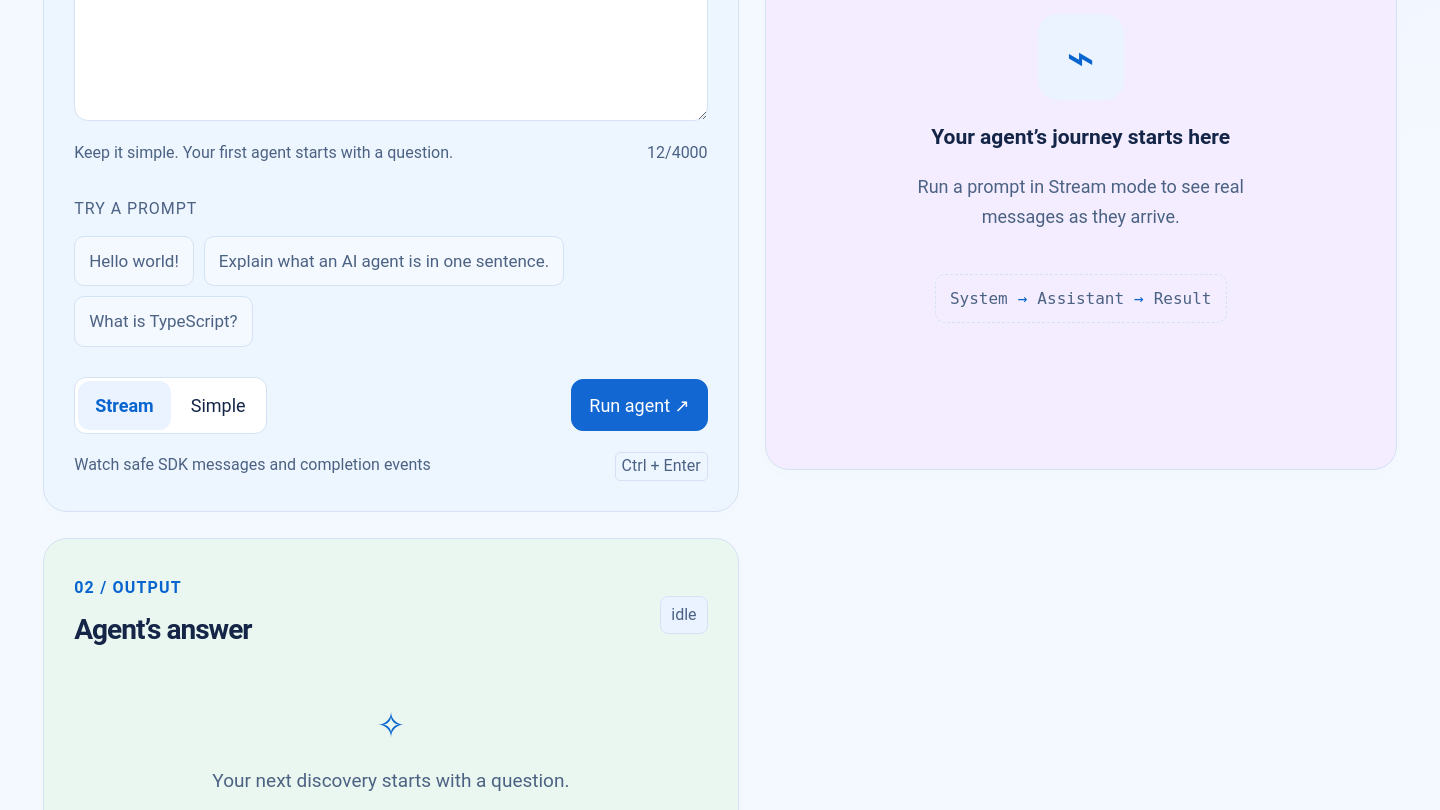
Test: React agent playground › shows streamed text before completion and keeps final usage
This screenshot has width=1440, height=810.
Later steps or results of the test are not shown.
(page scrolled)
Click the button "Run agent ↗" at (640, 405), box [571,379,708,431]
(page scrolled)
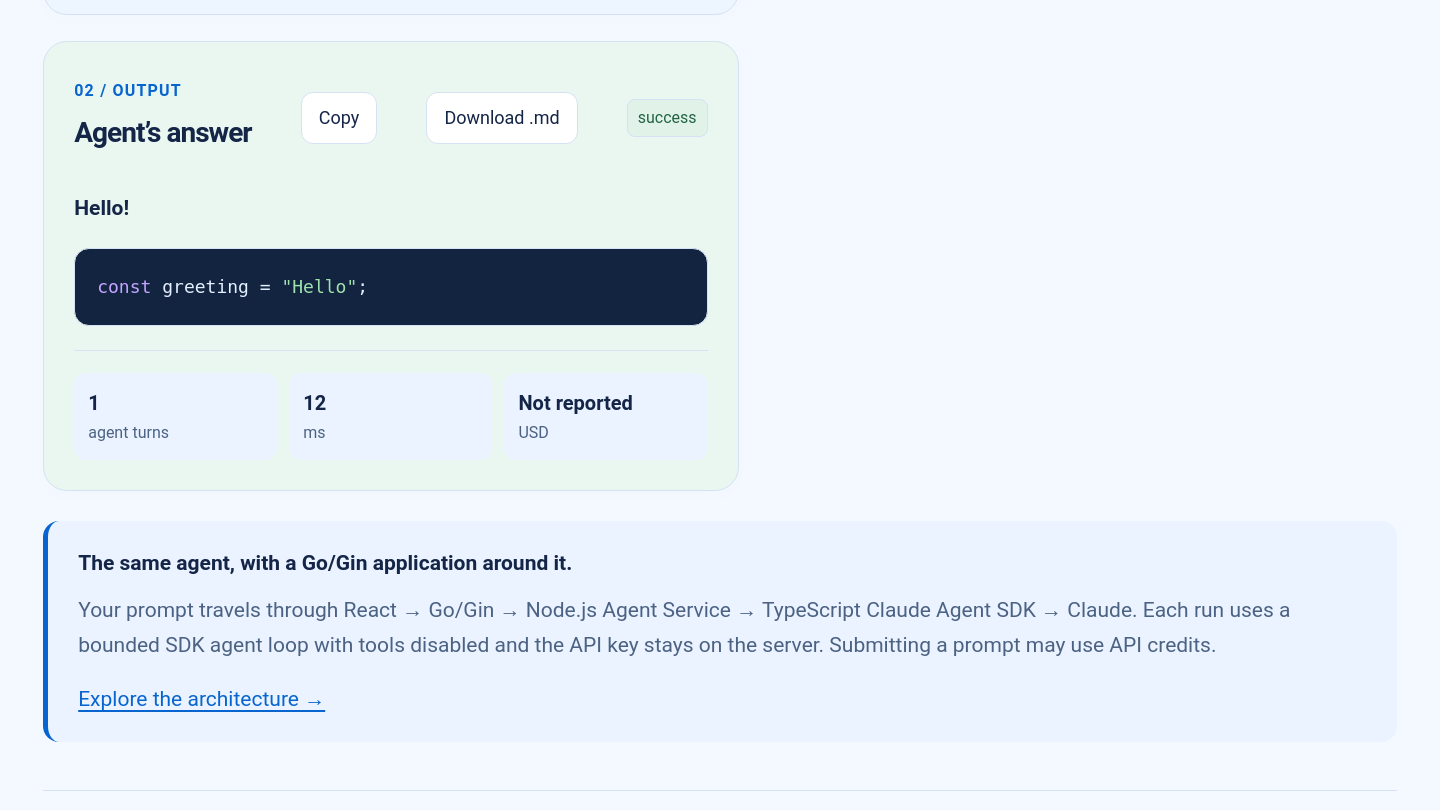
Check: the text with class "state" reads "success", box [638,108,697,126]
Check: the element with class "stats" shows "agent turns", box [88,423,169,442]
